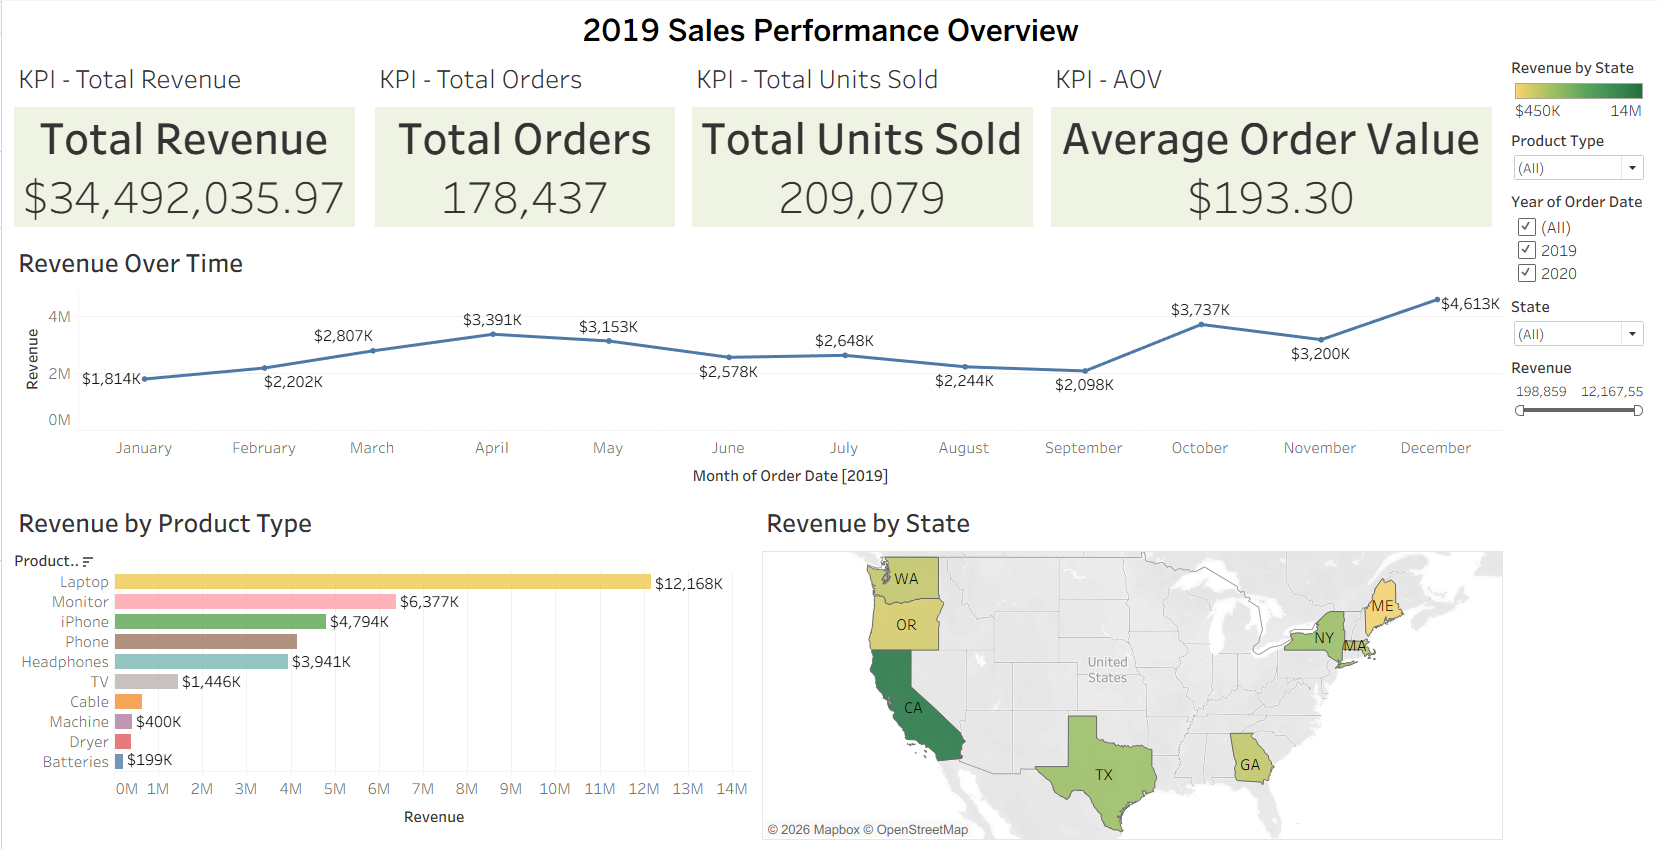

What the dashboard file says about the page in this screenshot:
{"tool":"tableau","page":{"name":"Sales Overview","canvas":[1000,1000],"units":"permille","ordinal":0},"visuals":[{"type":"title","box":[4.7,9.4,990.6,51.7]},{"type":"worksheet","title":"KPI - Total Revenue","mark":"Text","box":[4.7,61.1,218.4,216.2]},{"type":"worksheet","title":"KPI - Total Orders","mark":"Text","box":[223.1,61.1,191.9,216.2]},{"type":"worksheet","title":"KPI - Total Units Sold","mark":"Text","box":[414.9,61.1,217.3,216.2]},{"type":"worksheet","title":"KPI - AOV","mark":"Text","box":[632.2,61.1,278.7,216.2]},{"type":"legend","title":"Revenue by State","param":"[federated.0w8db3i1jz2uya10nagzv0fswe2r].[sum:Calculation_0740280305311745:qk]","box":[911,61.1,84.4,85.8]},{"type":"filter","title":"Revenue by Product Type","param":"[federated.0w8db3i1jz2uya10nagzv0fswe2r].[none:Product Type:nk]","box":[911,146.9,84.4,71.7]},{"type":"filter","title":"Revenue by Product Type","param":"[federated.0w8db3i1jz2uya10nagzv0fswe2r].[yr:Order Date:ok]","box":[911,218.6,84.4,123.4]},{"type":"worksheet","title":"Revenue Over Time","mark":"Line","rows":["Calculation_0740280305311745"],"cols":["Order Date"],"box":[4.7,277.3,906.3,305.8]},{"type":"filter","title":"Revenue by Product Type","param":"[federated.0w8db3i1jz2uya10nagzv0fswe2r].[none:Calculation_0740280306642949:nk]","box":[911,341.9,84.4,71.7]},{"type":"filter","title":"Revenue by Product Type","param":"[federated.0w8db3i1jz2uya10nagzv0fswe2r].[sum:Calculation_0740280305311745:qk]","box":[911,413.6,84.4,85.8]},{"type":"worksheet","title":"Revenue by Product Type","mark":"Automatic","rows":["Product Type"],"cols":["Calculation_0740280305311745"],"box":[4.7,583.1,452.8,407.5]},{"type":"worksheet","title":"Revenue by State","mark":"Multipolygon","box":[457.5,583.1,453.5,407.5]}]}

Visuals, with their boxes on the dashboard's canvas, which has no fixed pixel size, in thousandths of its width and height (x1, y1, x2, y2). These are canvas units, not pixel positions in the 1659x849 screenshot, which may show the page scaled, cropped or inside an application window:
title: bbox=[5, 9, 995, 61]
"KPI - Total Revenue" worksheet (Text marks): bbox=[5, 61, 223, 277]
"KPI - Total Orders" worksheet (Text marks): bbox=[223, 61, 415, 277]
"KPI - Total Units Sold" worksheet (Text marks): bbox=[415, 61, 632, 277]
"KPI - AOV" worksheet (Text marks): bbox=[632, 61, 911, 277]
"Revenue by State" legend: bbox=[911, 61, 995, 147]
"Revenue by Product Type" filter: bbox=[911, 147, 995, 219]
"Revenue by Product Type" filter: bbox=[911, 219, 995, 342]
"Revenue Over Time" worksheet (Line marks): bbox=[5, 277, 911, 583]
"Revenue by Product Type" filter: bbox=[911, 342, 995, 414]
"Revenue by Product Type" filter: bbox=[911, 414, 995, 499]
"Revenue by Product Type" worksheet: bbox=[5, 583, 458, 991]
"Revenue by State" worksheet (Multipolygon marks): bbox=[458, 583, 911, 991]
